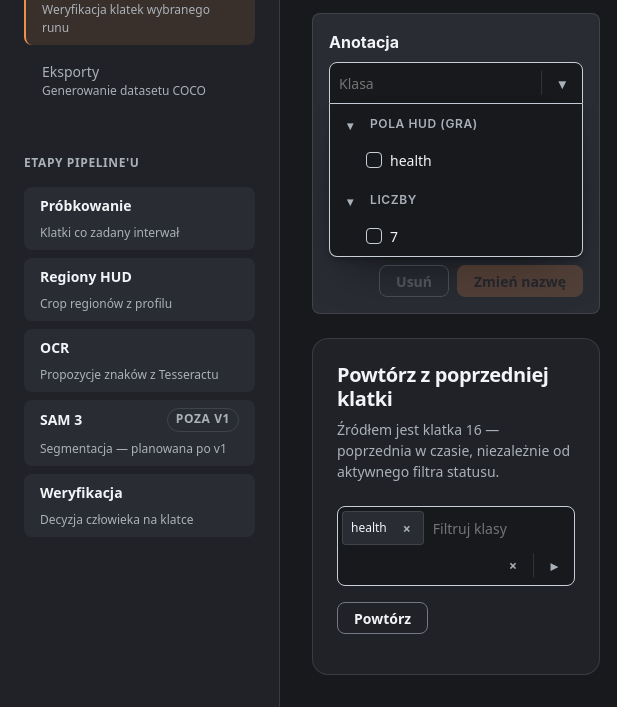
Test: FE-001-F4-FIX1 interaction regressions › loads the exact historical profile after the run resolves
(page scrolled)
Click the button named "Rozwiń listę Klasy z poprzedniej klatki": (554, 565) [538,549,570,581]
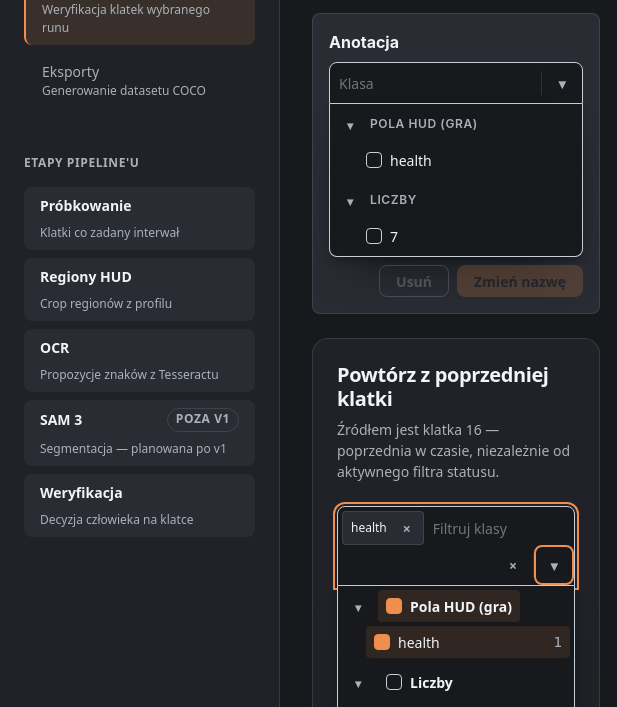
Expected: the checkbox labelled "health 1" is shown, [366,626,570,658]
